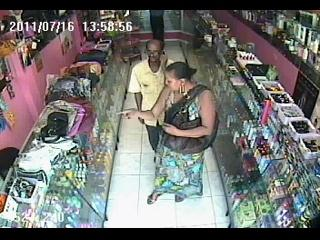Normal: (128, 62, 219, 204), (125, 40, 170, 160), (75, 50, 108, 66)
